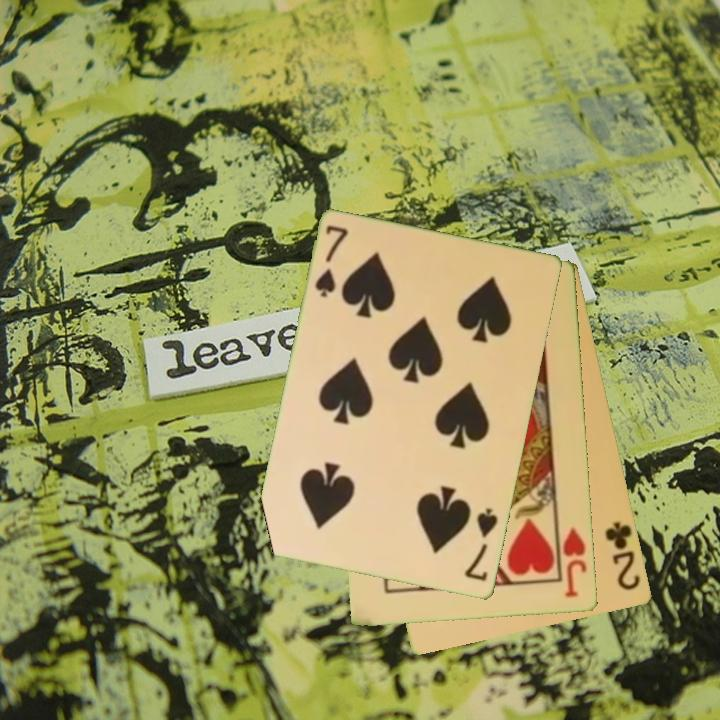2c: (602, 518, 644, 594)
7s: (461, 505, 501, 585), (311, 222, 351, 301)
Jh: (559, 524, 590, 601)
